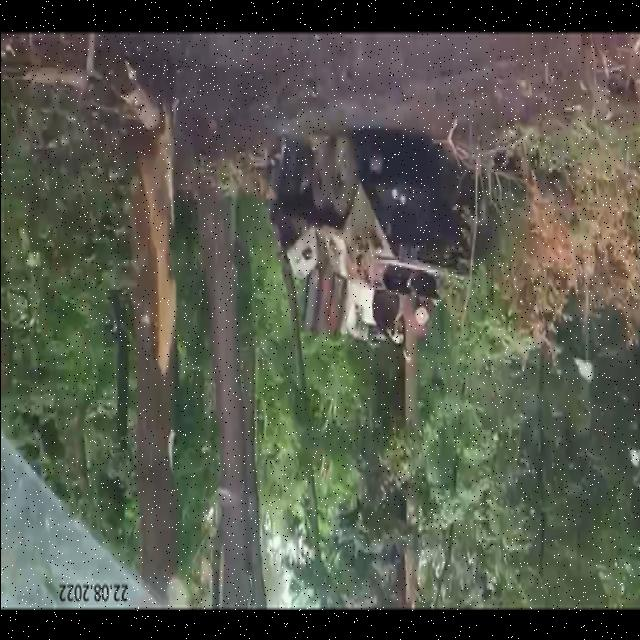APC-IFV: (268, 120, 492, 360)
